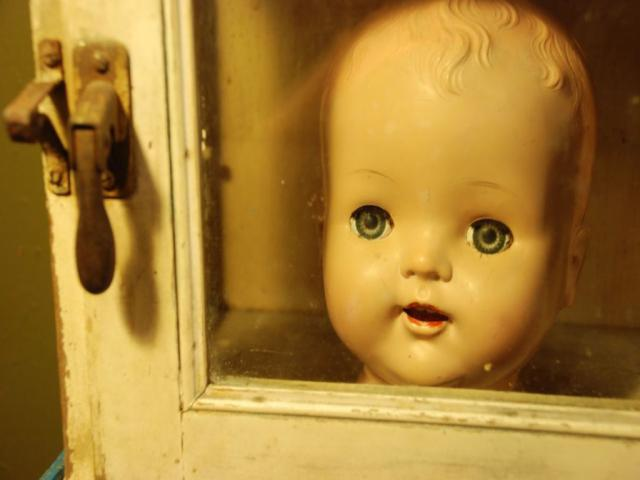Door-handle: (67, 33, 136, 303)
